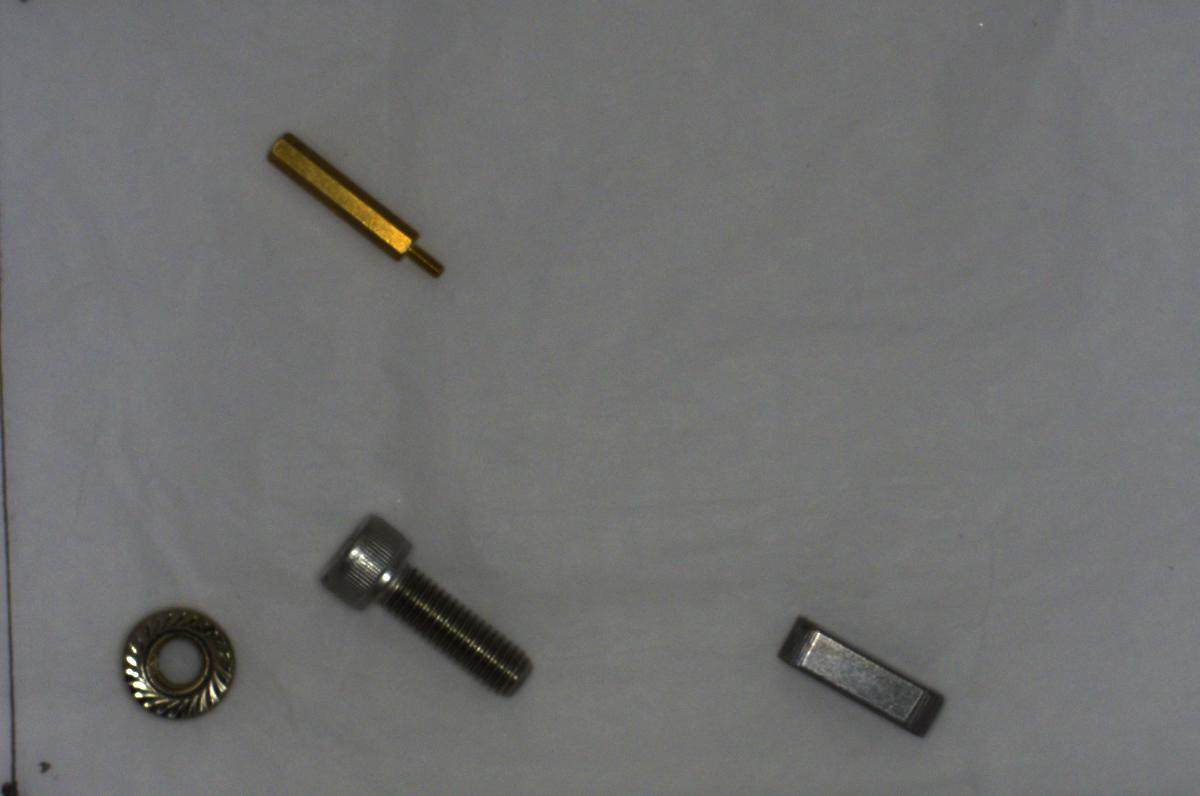Flange nut: (118, 599, 241, 728)
Hexagon pillar: (257, 125, 442, 285)
Hexagon screw: (312, 510, 540, 706)
Keybar: (773, 610, 958, 740)
